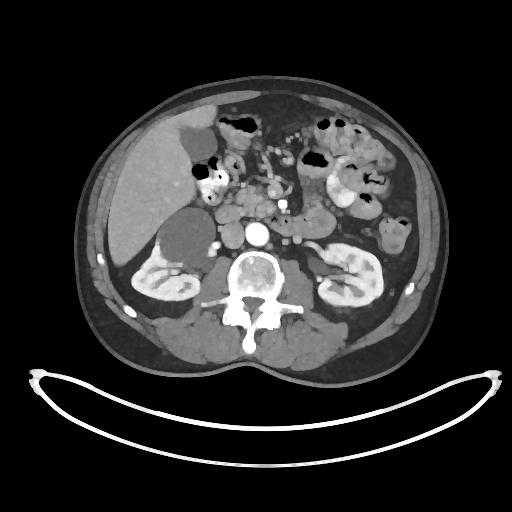Lesion: (156, 205, 217, 266)
